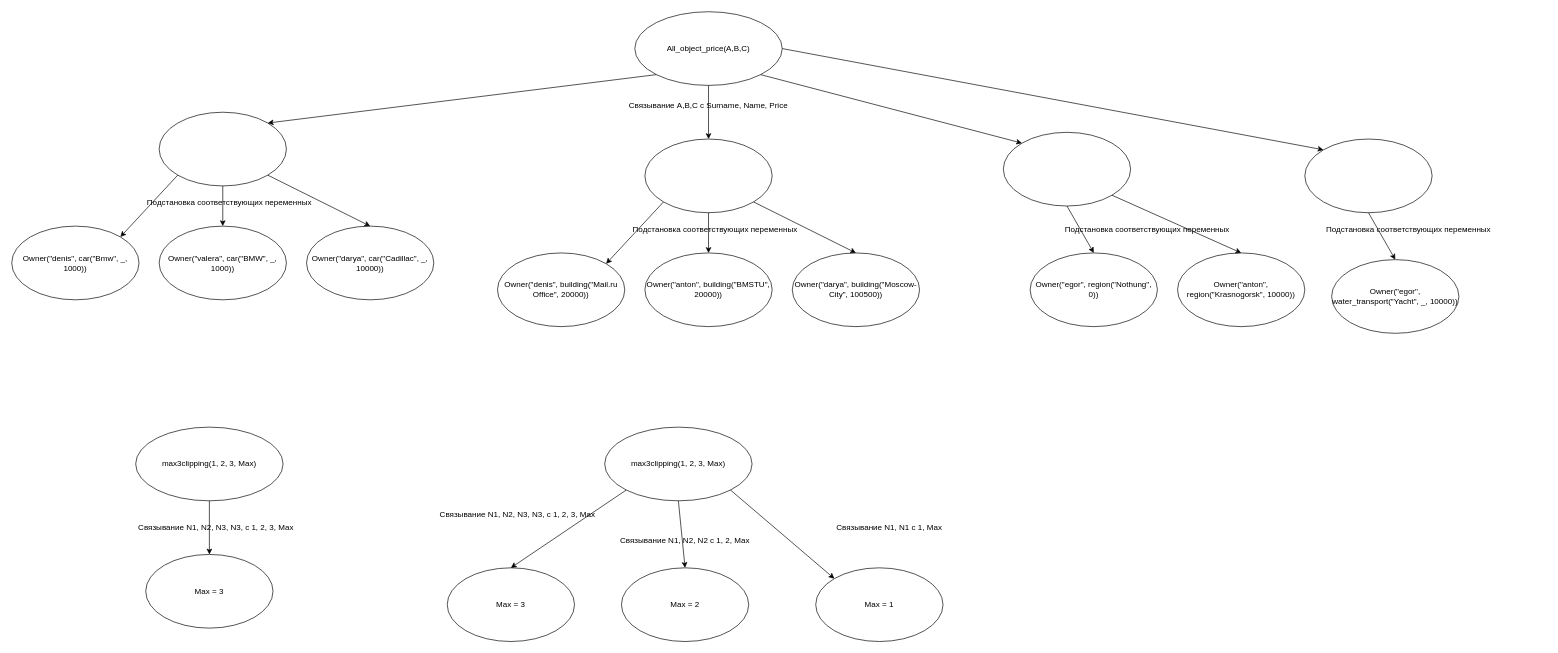
This 1558x653 diagram has some shape labels left out. Each missing label, with the centre of its shape:
"Owner(Surname, building(Name, Price))" goes at pixel 708 175.
"Owner(Surname, car(Name, _, Price))" goes at pixel 222 149.
"Owner(Surname, region(Name, Price))" goes at pixel 1067 169.
"Owner(Surname, water_transport(Name, _, Price))" goes at pixel 1368 175.
